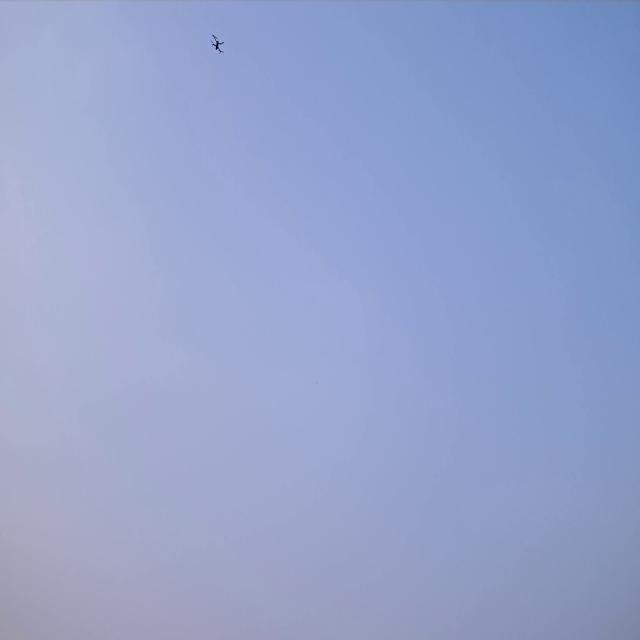UAV: (210, 33, 224, 56)
